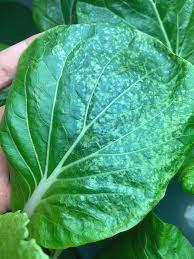Bok-Choy-Diseased: (10, 32, 194, 239)
